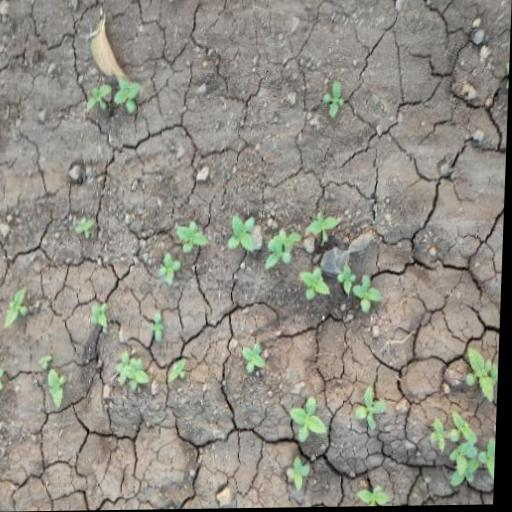crop: (220, 200, 396, 317), (265, 213, 393, 320), (275, 383, 400, 454), (412, 401, 500, 496), (109, 344, 207, 403), (0, 349, 79, 419), (154, 217, 214, 298), (70, 79, 150, 120), (0, 276, 47, 336), (313, 73, 362, 130), (76, 297, 123, 331), (0, 85, 8, 164)
